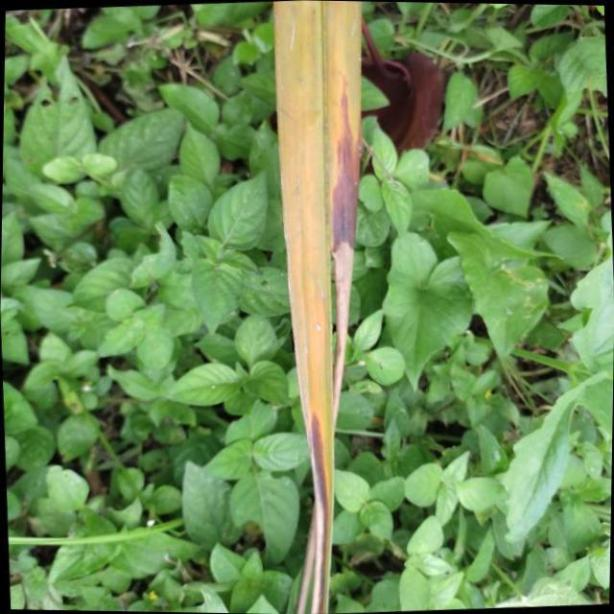Megnesium: (274, 0, 364, 614)
